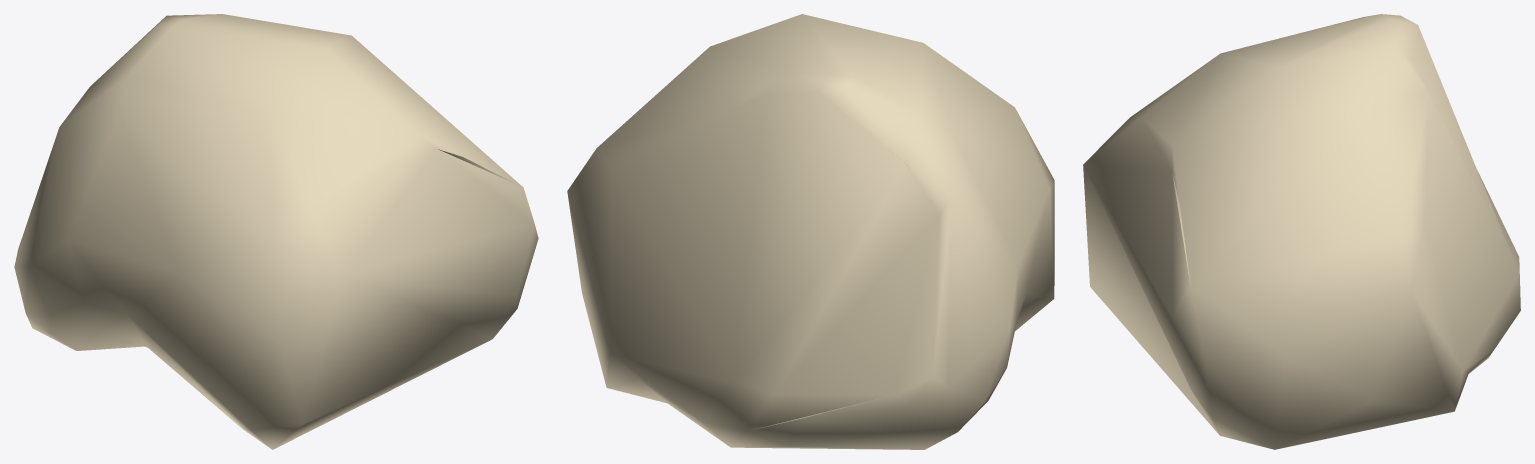
The model's file is esqueleto-middle-phalanx-of-fifth-finger-of-foot-l.glb.
3 renders of one model, left to right at view 1: azimuth 30°, elevation 25°; view 2: azimuth 150°, elevation 25°; view 3: azimuth 270°, elevation 25°, orthographic. The views are drawn at different scales.
Visible parts, largest first — view 1: Middle phalanx of fifth finger of foot.l; view 2: Middle phalanx of fifth finger of foot.l; view 3: Middle phalanx of fifth finger of foot.l.
Part boxes in pixels (<box>): Middle phalanx of fifth finger of foot.l: <box>14,14,538,449</box>; Middle phalanx of fifth finger of foot.l: <box>567,14,1054,449</box>; Middle phalanx of fifth finger of foot.l: <box>1083,14,1520,449</box>.
Size of the model in its own units: 0.0086 by 0.0066 by 0.00779.
